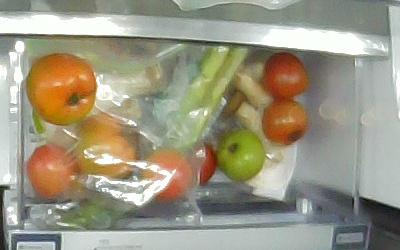tomato: (24, 51, 97, 125), (215, 126, 265, 182), (260, 50, 309, 98), (260, 97, 308, 145)
tomato_vinyl: (73, 110, 141, 180), (25, 142, 81, 199), (141, 146, 192, 203), (187, 139, 217, 185)
